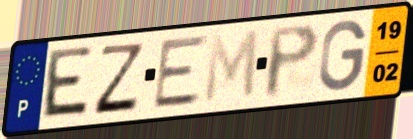E: (150, 32, 211, 112), (38, 44, 95, 121)
G: (317, 18, 369, 94)
M: (201, 27, 261, 107)
P: (263, 21, 322, 101)
Z: (91, 42, 147, 117)
